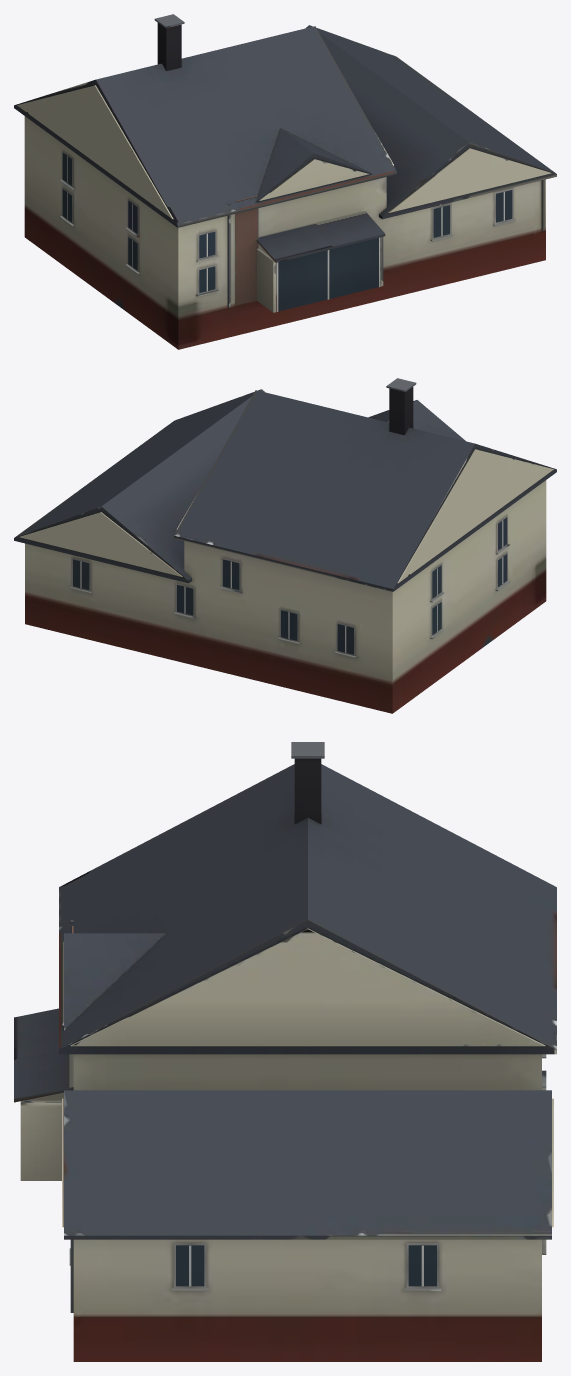
3 views of the same model, one above another, from view 1: azimuth 30°, elevation 25°; view 2: azimuth 150°, elevation 25°; view 3: azimuth 270°, elevation 25° (orthographic). The views are drawn at different scales.
Parts seen in each view (by area): view 1: building; view 2: building; view 3: building.
Boxes of the visible parts, <box> form: building: <box>14,14,556,349</box>; building: <box>14,378,556,713</box>; building: <box>14,742,556,1361</box>.
Bounding box in the file's own units: 20.2 × 12.96 × 16.34.
2 materials, 2 textured.
